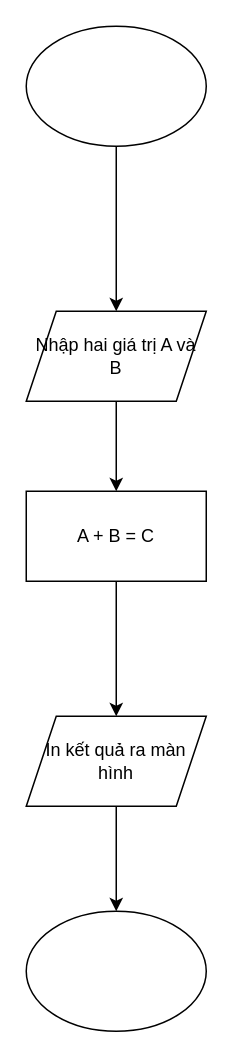
Image size: 233x1058. Some labels were removed from this diagram. Here are the shapes that lost their labels. From the top down, the box of each, then its label:
(25, 25, 206, 146): Start
(25, 910, 206, 1031): End;
